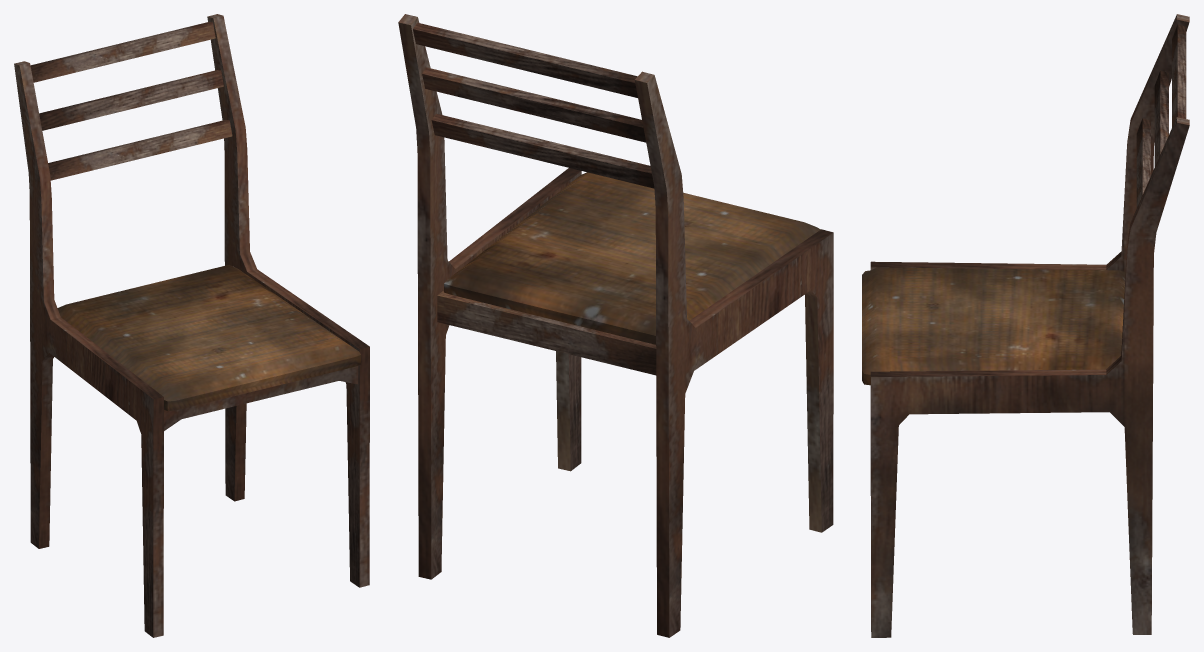
File: chair_02.FBX
3 views of the same model, side by side, from view 1: azimuth 30°, elevation 25°; view 2: azimuth 150°, elevation 25°; view 3: azimuth 270°, elevation 25° (orthographic). The views are drawn at different scales.
Visible parts, largest first — view 1: chair; view 2: chair; view 3: chair.
Part boxes in pixels (x1=…): chair: x1=14, y1=14, x2=369, y2=637; chair: x1=398, y1=14, x2=833, y2=637; chair: x1=862, y1=14, x2=1189, y2=637.
Bounding box in the file's own units: 0.4742 × 0.9811 × 0.5692.
1 material, 1 textured.
